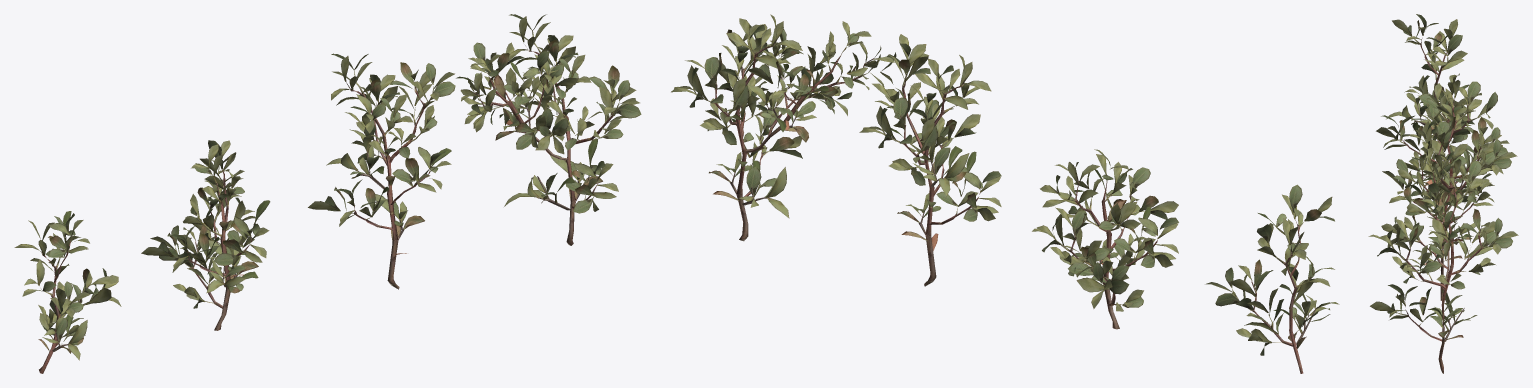
File: shrub_04.glb
The picture shows the model from 3 angles, left to right: view 1: azimuth 30°, elevation 25°; view 2: azimuth 150°, elevation 25°; view 3: azimuth 270°, elevation 25°; orthographic projection. The views are drawn at different scales.
Visible parts, largest first — view 1: shrub_04; view 2: shrub_04; view 3: shrub_04.
Boxes of the visible parts, x1,y1,x2,y2 form: shrub_04: (14,14,641,373); shrub_04: (671,14,1339,373); shrub_04: (1368,14,1518,373).
Size of the model in its own units: 0.5837 by 0.2185 by 0.1461.
1 material, 1 textured.
